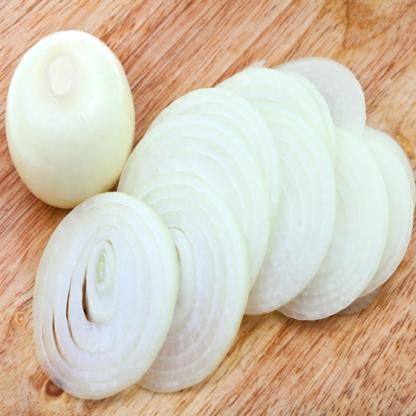onion: (152, 73, 416, 308), (21, 36, 139, 178)
